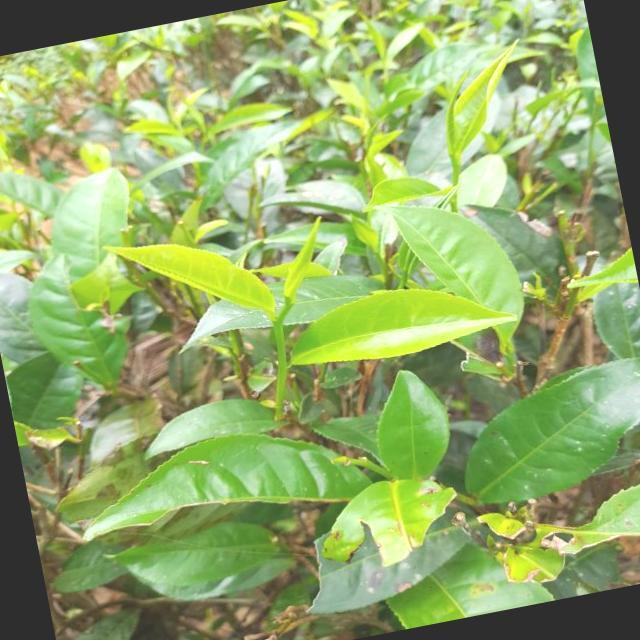Stem: (273, 318, 283, 330), (452, 158, 459, 168)
